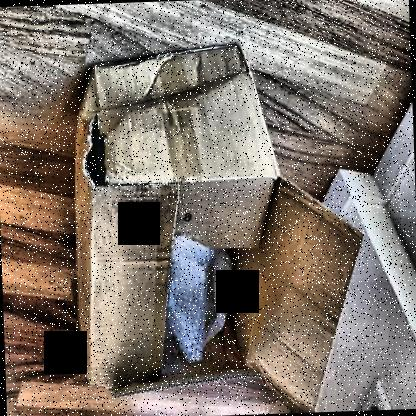defect parcel: (40, 17, 395, 416)
